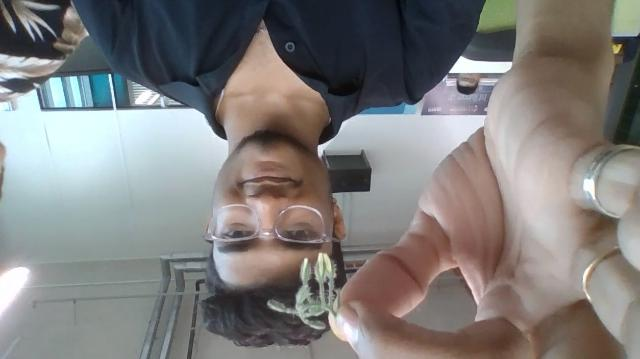Flower Bud: (298, 278, 331, 321), (294, 255, 312, 313), (316, 251, 331, 284), (266, 299, 295, 315), (301, 257, 311, 286)
